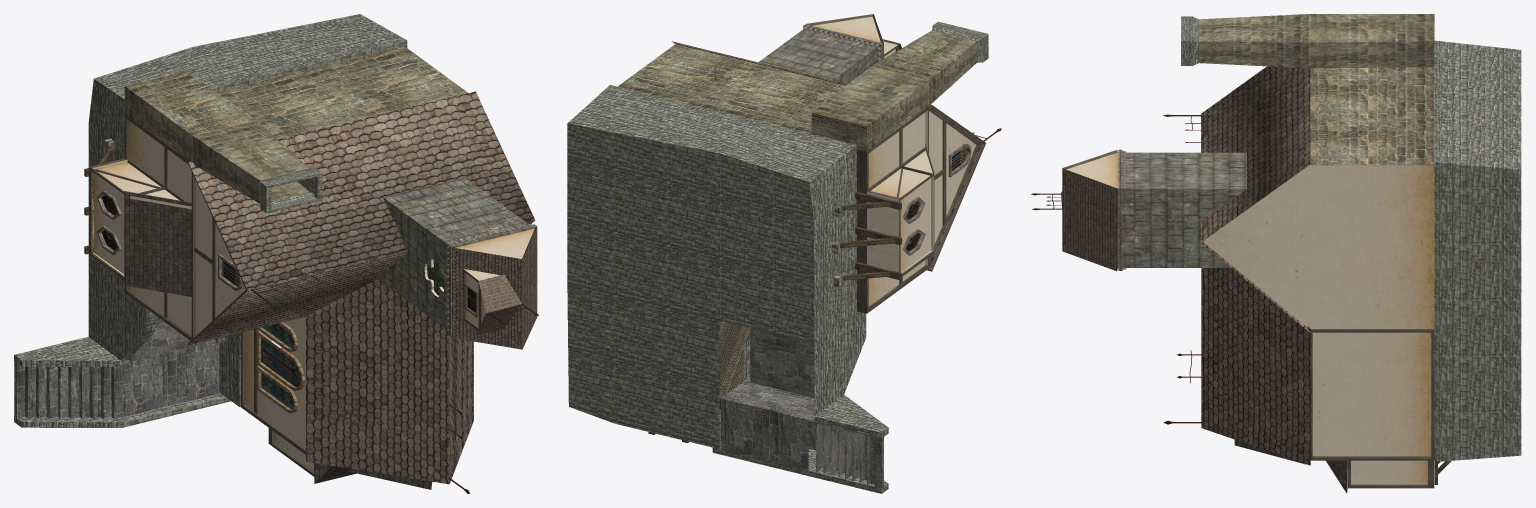
The model's file is med_house_final.obj.
The picture shows the model from 3 angles, left to right: view 1: azimuth 30°, elevation 25°; view 2: azimuth 150°, elevation 25°; view 3: azimuth 270°, elevation 25°; orthographic projection. The views are drawn at different scales.
Visible parts, largest first — view 1: Box01, Box49, Box03, Stairs01, StraightStair01; view 2: Box49, Box01, Stairs01, Box03, StraightStair01; view 3: Box01, Box49, Box03.
Boxes of the visible parts, x1=… form: Box01: x1=89, y1=46, x2=535, y2=489; Box49: x1=14, y1=14, x2=407, y2=427; Box03: x1=378, y1=177, x2=537, y2=349; Stairs01: x1=14, y1=341, x2=219, y2=418; StraightStair01: x1=131, y1=316, x2=215, y2=361; Box49: x1=567, y1=85, x2=888, y2=493; Box01: x1=618, y1=21, x2=988, y2=397; Stairs01: x1=720, y1=380, x2=883, y2=488; Box03: x1=758, y1=14, x2=901, y2=84; StraightStair01: x1=750, y1=327, x2=814, y2=397; Box01: x1=1181, y1=14, x2=1434, y2=493; Box49: x1=1434, y1=40, x2=1521, y2=461; Box03: x1=1061, y1=149, x2=1246, y2=271.
Bounding box in the file's own units: 127 × 139 × 169.
